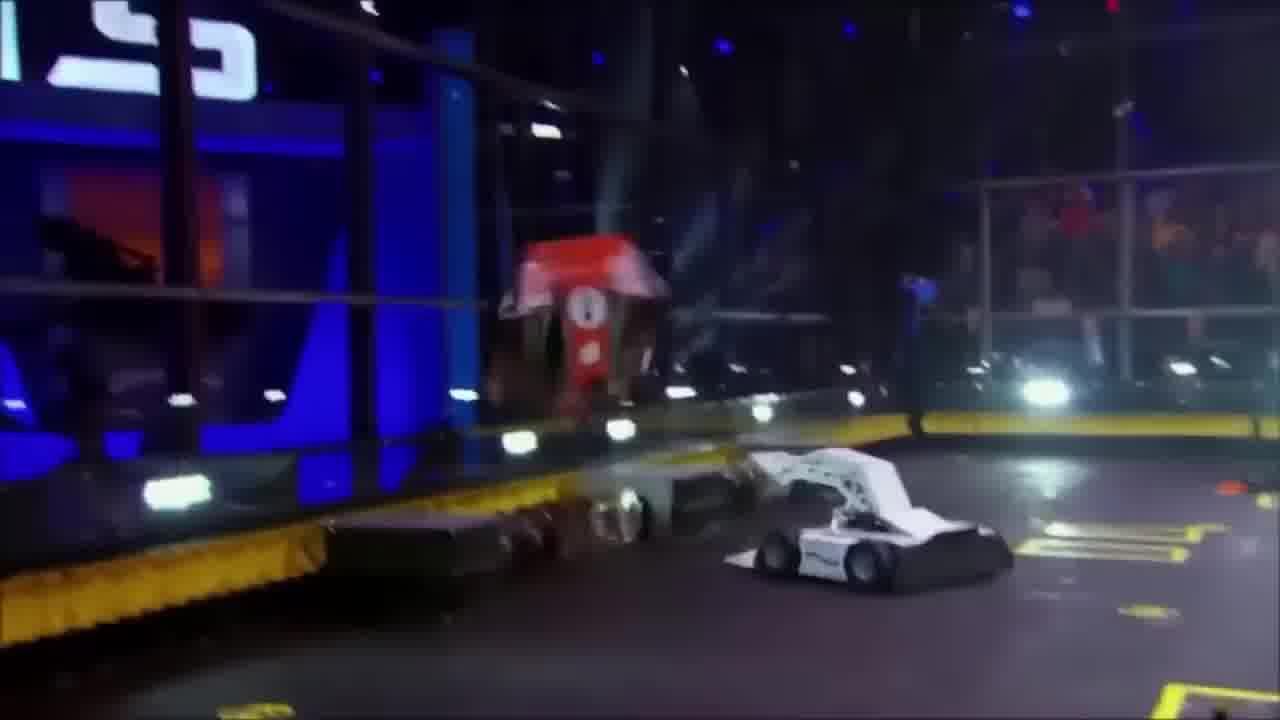combatbot: (733, 445, 1011, 591), (501, 232, 670, 403)
